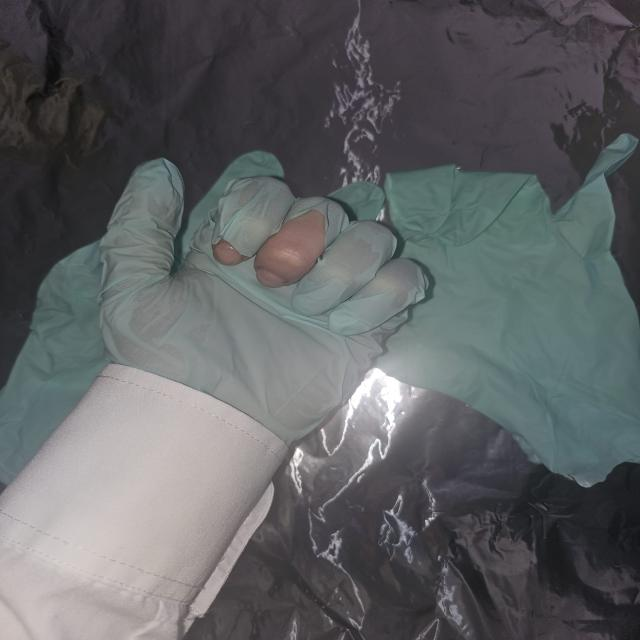gloves_damaged: (102, 155, 434, 450)
